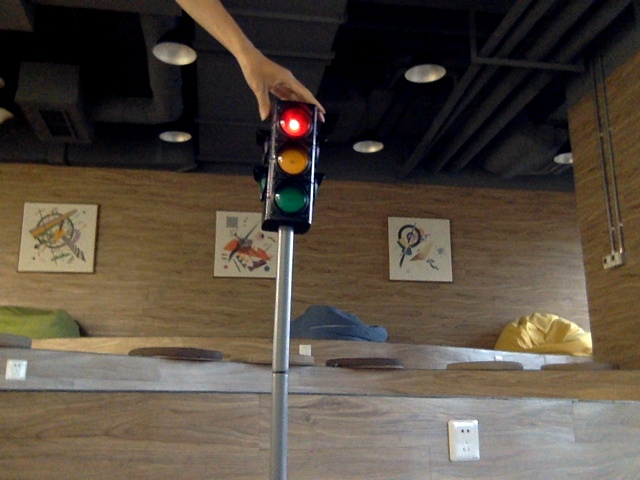red: (273, 106, 308, 216)
